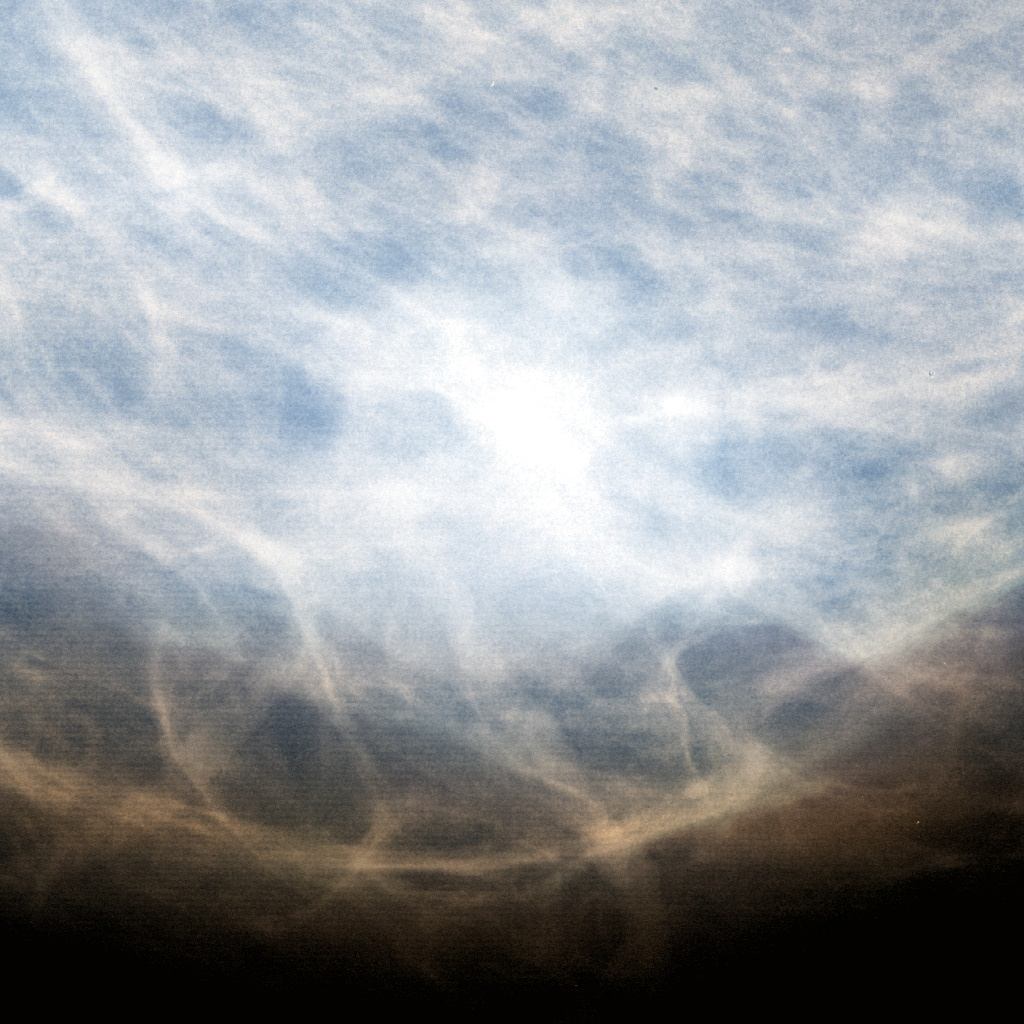tumor: (297, 303, 727, 721)
